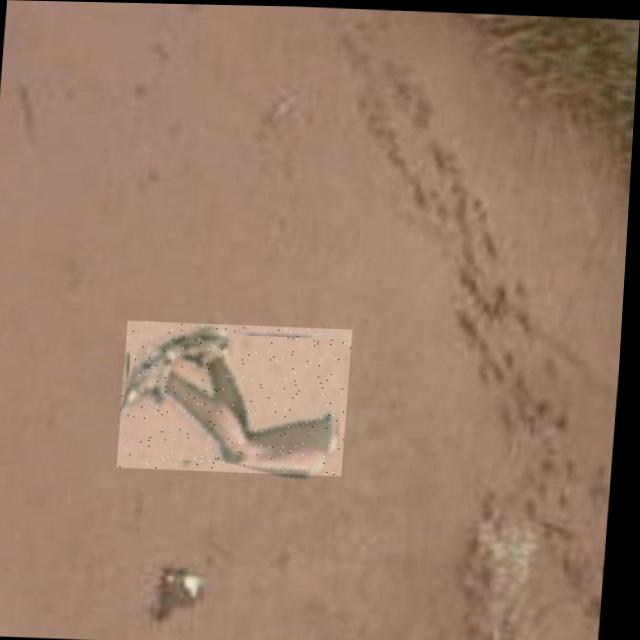Person in Rubble: (120, 319, 355, 474)
